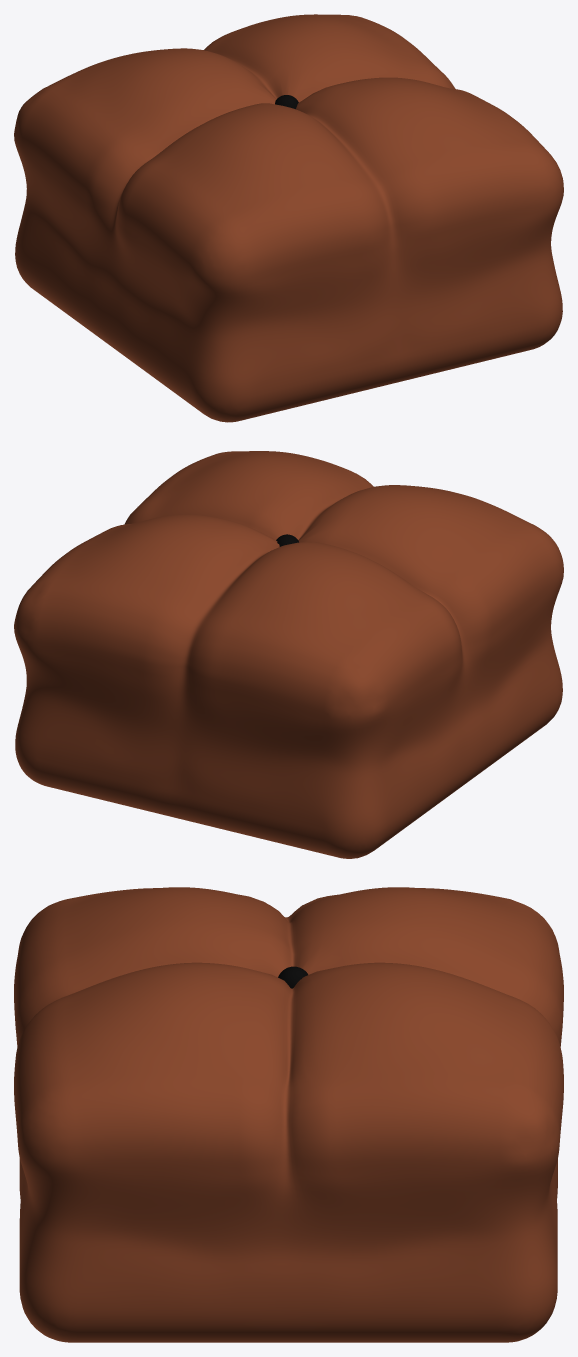
File: risingPlatform.fbx
The picture shows the model from 3 angles, top to bottom: view 1: azimuth 30°, elevation 25°; view 2: azimuth 150°, elevation 25°; view 3: azimuth 270°, elevation 25°; orthographic projection. The views are drawn at different scales.
Visible parts, largest first — view 1: Cube; view 2: Cube; view 3: Cube.
Part boxes in pixels (x1=…): Cube: x1=14, y1=14, x2=563, y2=422; Cube: x1=14, y1=451, x2=563, y2=858; Cube: x1=14, y1=887, x2=563, y2=1342.
Size of the model in its own units: 400 by 252 by 410.
